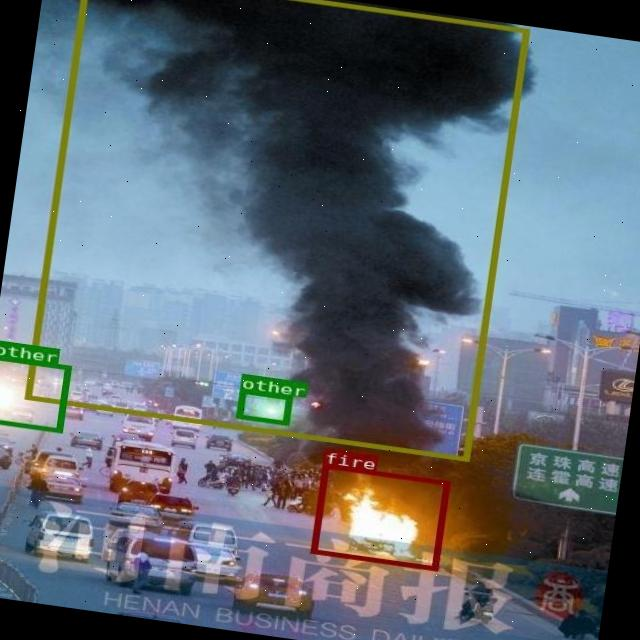fire: (311, 463, 450, 570)
smoke: (24, 0, 527, 461)
